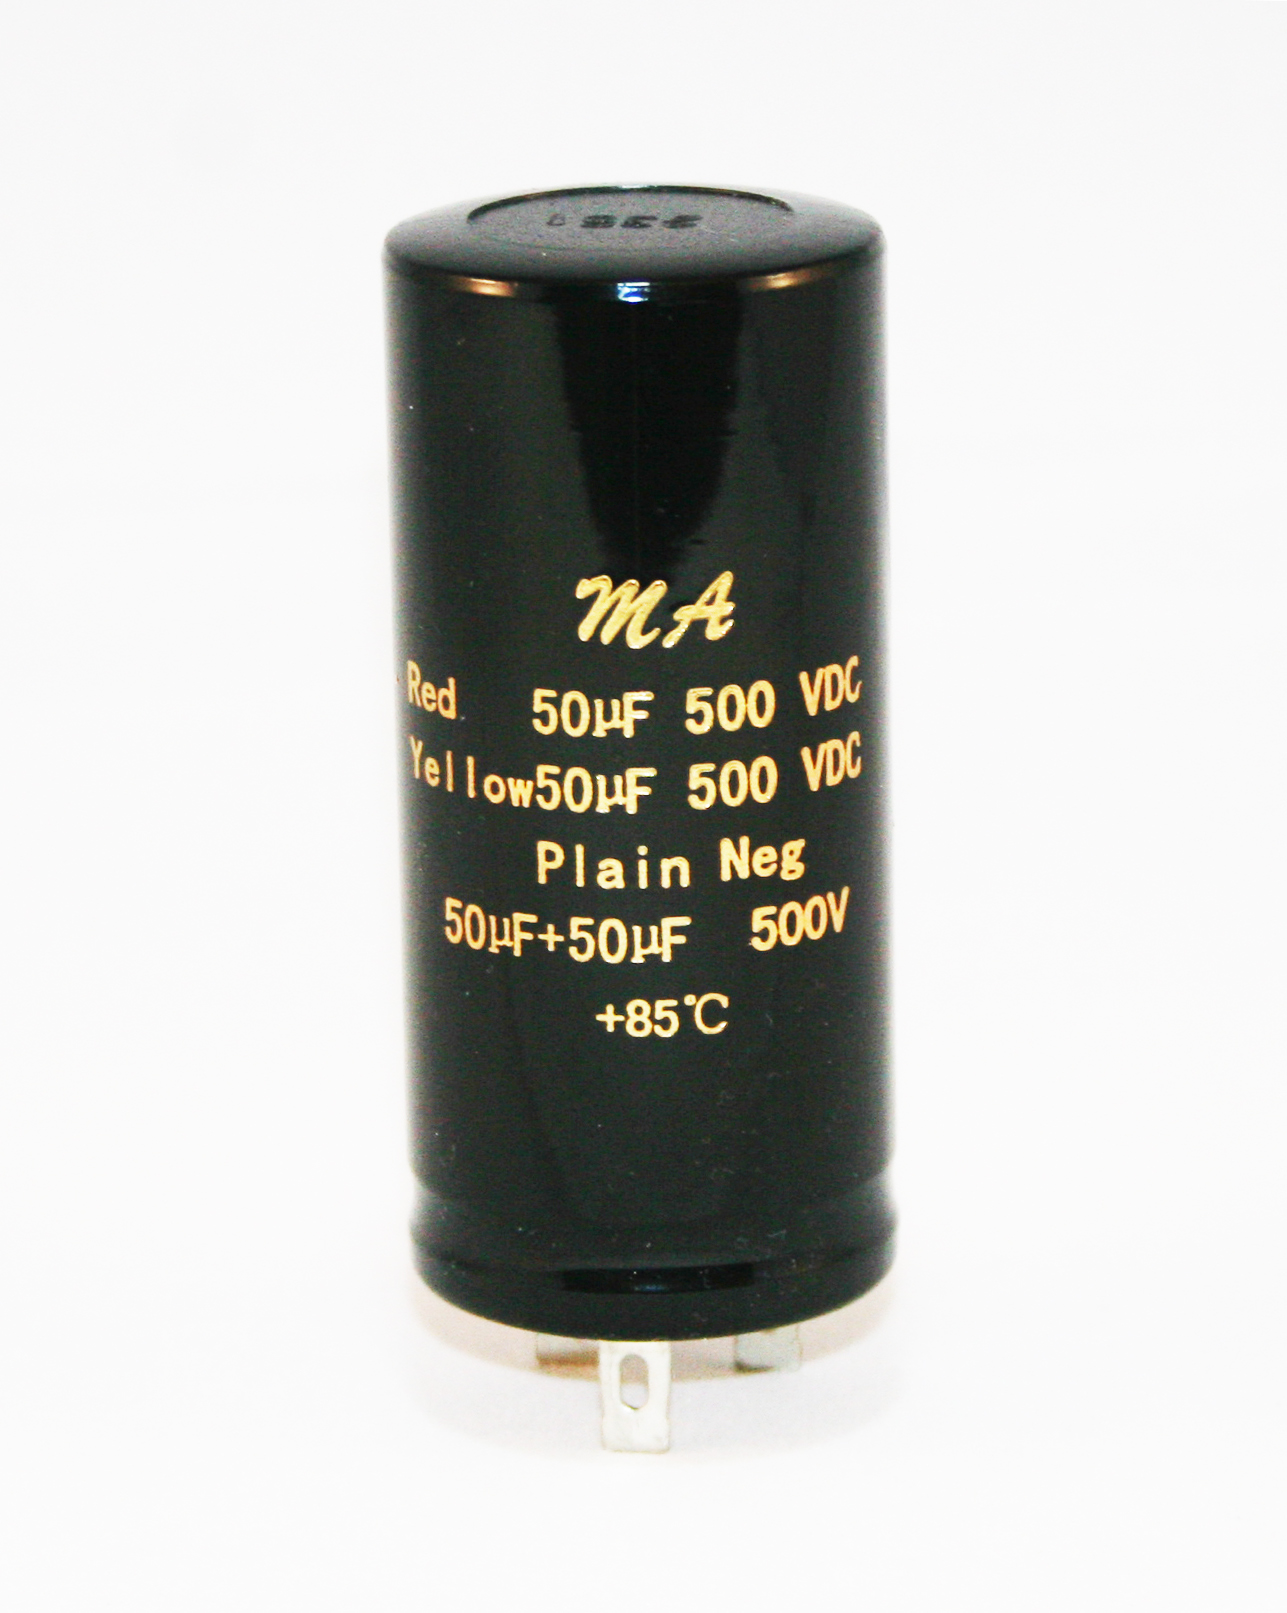capacitor: (314, 93, 1011, 1504)
